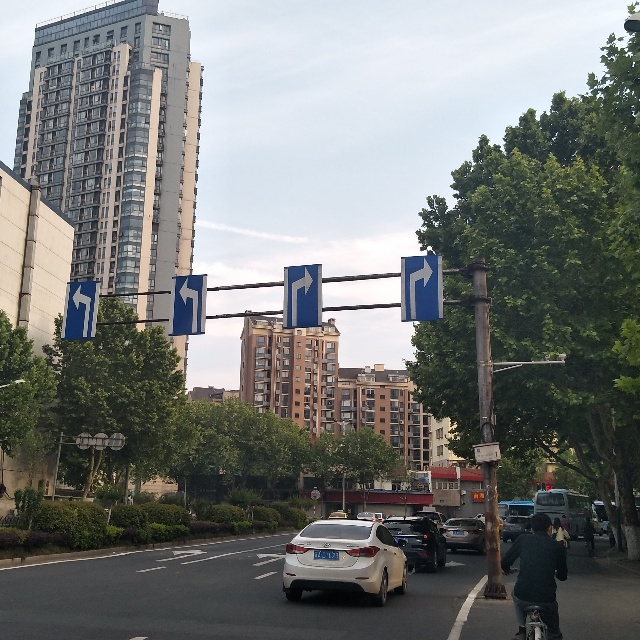left: (63, 279, 99, 343), (170, 275, 202, 339)
right: (405, 256, 437, 329), (288, 265, 314, 325)
